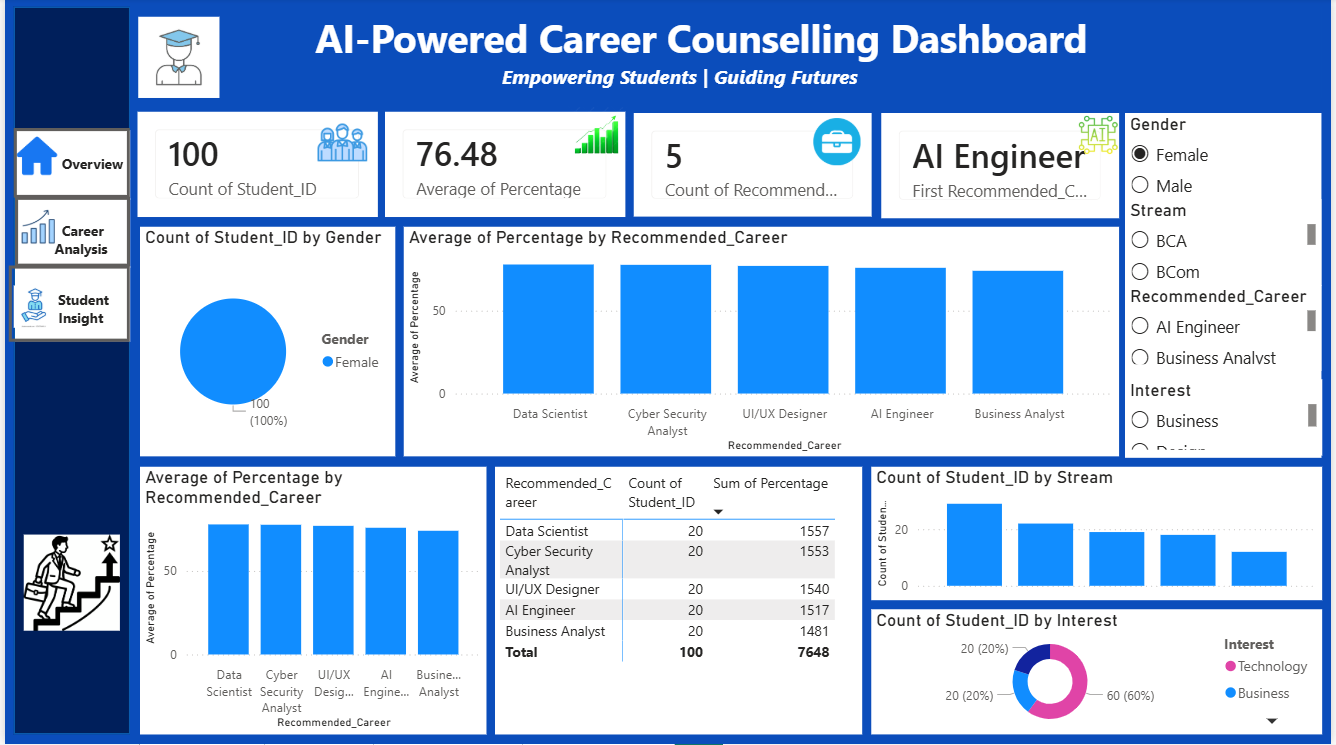

Layout of this report page (visuals, bound fields, positions):
{"tool":"powerbi","page":{"name":"Dashboard","canvas":[1280,720],"ordinal":0},"visuals":[{"type":"shape","box":[8.4,8.4,112.2,702.1],"z":0},{"type":"textbox","box":[129.1,8.4,1141.3,88.1],"z":1000},{"type":"textbox","box":[120.6,8.4,1149.7,95.3],"z":2000},{"type":"image","box":[111,18.1,113.4,78.4],"z":3000},{"type":"cardVisual","fields":{"Data":["Avg(CareerData.Percentage)"]},"box":[366.8,109.8,231.6,101.3],"z":4000},{"type":"cardVisual","fields":{"Data":["Count(CareerData.Recommended_Career)"]},"box":[606.8,111,229.2,100.1],"z":5000},{"type":"cardVisual","fields":{"Data":["Min(CareerData.Recommended_Career)"]},"box":[845.7,111,229.2,101.3],"z":6000},{"type":"image","box":[528.4,103.8,86.9,57.9],"z":7000},{"type":"image","box":[769.7,115.8,66.4,45.8],"z":8000},{"type":"image","box":[1035.1,103.8,39.8,56.7],"z":9000},{"type":"pieChart","fields":{"Category":["CareerData.Gender"],"Y":["CountNonNull(CareerData.Student_ID)"]},"box":[130.3,220.8,246.1,222],"z":10000},{"type":"cardVisual","fields":{"Data":["CountNonNull(CareerData.Student_ID)"]},"box":[127.9,109.8,231.6,101.3],"z":11000},{"type":"image","box":[301.6,113.4,48.3,51.9],"z":12000},{"type":"clusteredColumnChart","fields":{"Category":["CareerData.Recommended_Career"],"Y":["Avg(CareerData.Percentage)"]},"box":[384.9,220.8,690.1,222],"z":13000},{"type":"image","box":[18.1,499.5,92.9,129.1],"z":14000},{"type":"listSlicer","fields":{"Values":["CareerData.Gender"]},"box":[1081,111,189.4,333],"z":15000},{"type":"clusteredColumnChart","fields":{"Category":["CareerData.Recommended_Career"],"Y":["Avg(CareerData.Percentage)"]},"box":[130.3,452.4,334.2,258.2],"z":16000},{"type":"pivotTable","fields":{"Rows":["CareerData.Recommended_Career"],"Values":["CountNonNull(CareerData.Student_ID)","Sum(CareerData.Percentage)"]},"box":[472.9,452.4,354.7,258.2],"z":17000},{"type":"clusteredColumnChart","fields":{"Category":["CareerData.Stream"],"Y":["CountNonNull(CareerData.Student_ID)"]},"box":[836.1,452.4,435.5,129.1],"z":18000},{"type":"donutChart","fields":{"Category":["CareerData.Interest"],"Y":["CountNonNull(CareerData.Student_ID)"]},"box":[836.1,589.9,435.5,120.6],"z":19000},{"type":"listSlicer","fields":{"Values":["CareerData.Stream"]},"box":[1081,194.2,189.4,83.2],"z":20000},{"type":"listSlicer","fields":{"Values":["CareerData.Recommended_Career"]},"box":[1081,277.5,189.4,82],"z":21000},{"type":"listSlicer","fields":{"Values":["CareerData.Interest"]},"box":[1081,368,190.6,73.6],"z":22000},{"type":"textbox","box":[9.7,127.9,111,66.4],"z":23000},{"type":"textbox","box":[9.7,259.4,111,72.4],"z":24000},{"type":"textbox","box":[9.7,193,111,67.6],"z":25000},{"type":"image","box":[9.7,127.9,42.2,48.3],"z":26000},{"type":"image","box":[8.4,203.9,47.1,33.8],"z":27000},{"type":"image","box":[3.6,277.5,48.3,41],"z":28000},{"type":"actionButton","box":[8.4,125.5,112.2,67.6],"z":29000},{"type":"actionButton","box":[9.7,191.8,111,67.6],"z":30000},{"type":"actionButton","box":[3.6,258.2,117,73.6],"z":31000}]}

Visuals, with their boxes in screenshot pixels (x1, y1, x2, y2), scaled from the page's 1280x720 canvas onto the 1336x745 screenshot:
shape: [9, 9, 126, 735]
textbox: [135, 9, 1326, 100]
textbox: [126, 9, 1326, 107]
image: [116, 19, 234, 100]
cardVisual - Avg(CareerData.Percentage): [383, 114, 625, 218]
cardVisual - Count(CareerData.Recommended_Career): [633, 115, 873, 218]
cardVisual - Min(CareerData.Recommended_Career): [883, 115, 1122, 220]
image: [552, 107, 642, 167]
image: [803, 120, 873, 167]
image: [1080, 107, 1122, 166]
pieChart - CareerData.Gender x CountNonNull(CareerData.Student_ID): [136, 228, 393, 458]
cardVisual - CountNonNull(CareerData.Student_ID): [133, 114, 375, 218]
image: [315, 117, 365, 171]
clusteredColumnChart - CareerData.Recommended_Career x Avg(CareerData.Percentage): [402, 228, 1122, 458]
image: [19, 517, 116, 650]
listSlicer - CareerData.Gender: [1128, 115, 1326, 459]
clusteredColumnChart - CareerData.Recommended_Career x Avg(CareerData.Percentage): [136, 468, 485, 735]
pivotTable - CareerData.Recommended_Career x CountNonNull(CareerData.Student_ID): [494, 468, 864, 735]
clusteredColumnChart - CareerData.Stream x CountNonNull(CareerData.Student_ID): [873, 468, 1327, 602]
donutChart - CareerData.Interest x CountNonNull(CareerData.Student_ID): [873, 610, 1327, 735]
listSlicer - CareerData.Stream: [1128, 201, 1326, 287]
listSlicer - CareerData.Recommended_Career: [1128, 287, 1326, 372]
listSlicer - CareerData.Interest: [1128, 381, 1327, 457]
textbox: [10, 132, 126, 201]
textbox: [10, 268, 126, 343]
textbox: [10, 200, 126, 270]
image: [10, 132, 54, 182]
image: [9, 211, 58, 246]
image: [4, 287, 54, 330]
actionButton: [9, 130, 126, 200]
actionButton: [10, 198, 126, 268]
actionButton: [4, 267, 126, 343]
